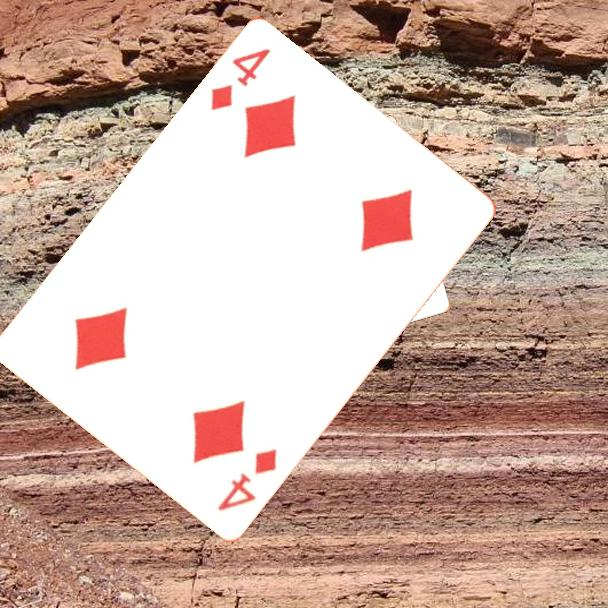d04: (207, 43, 274, 113), (214, 444, 280, 513)
